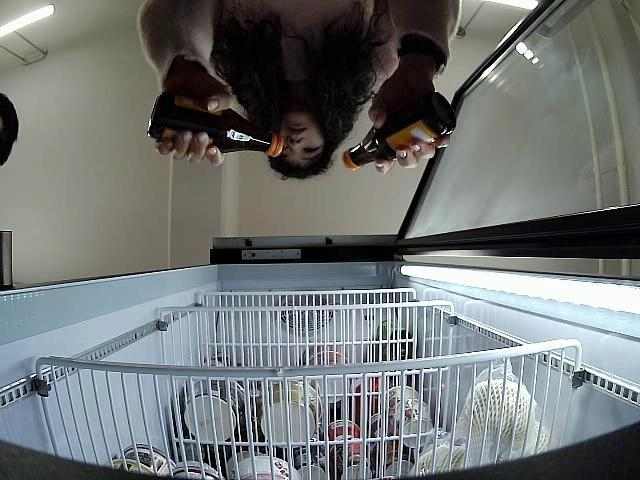17_vita500: (146, 92, 284, 159), (342, 93, 456, 173)
